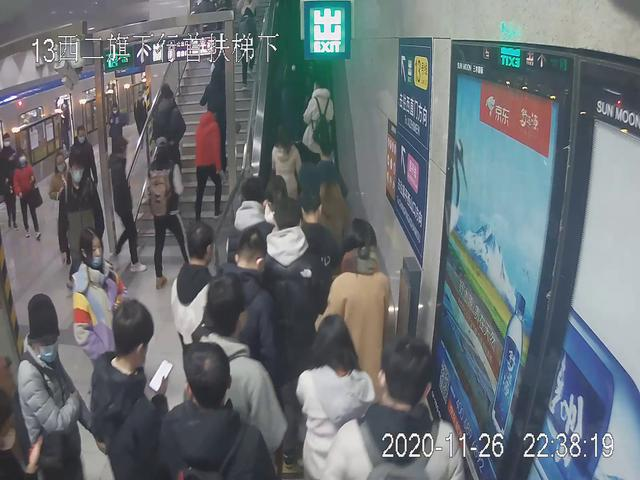person: (183, 269, 280, 480), (9, 293, 105, 480), (81, 290, 168, 476), (256, 196, 335, 384), (296, 311, 374, 480), (328, 214, 395, 403), (69, 230, 135, 403), (139, 136, 189, 288), (100, 138, 152, 279), (56, 155, 102, 278), (150, 81, 190, 190), (195, 97, 224, 233), (265, 119, 306, 206), (303, 77, 335, 173), (13, 149, 39, 242)
